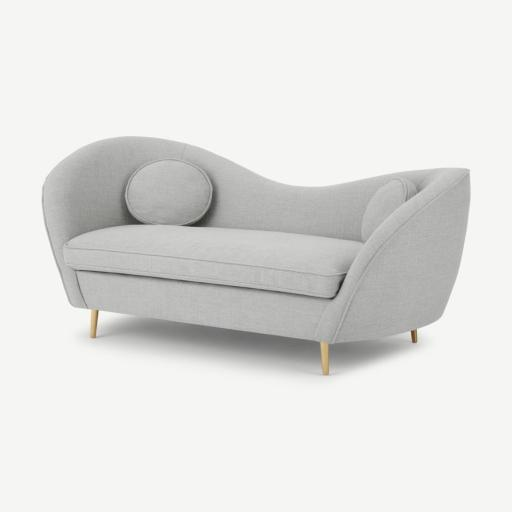back_cushion: (180, 146, 389, 241)
base: (76, 271, 334, 339)
left_arm: (314, 171, 470, 343)
legs: (320, 343, 328, 375), (90, 310, 98, 338), (411, 330, 417, 343)
one-seater: (42, 137, 470, 375)
right_arm: (43, 137, 184, 307)
seat_cushion: (64, 225, 363, 298)
